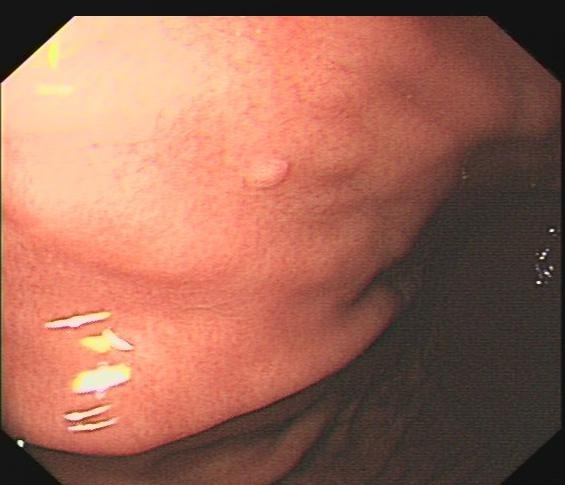Polyp: (234, 145, 302, 214)
